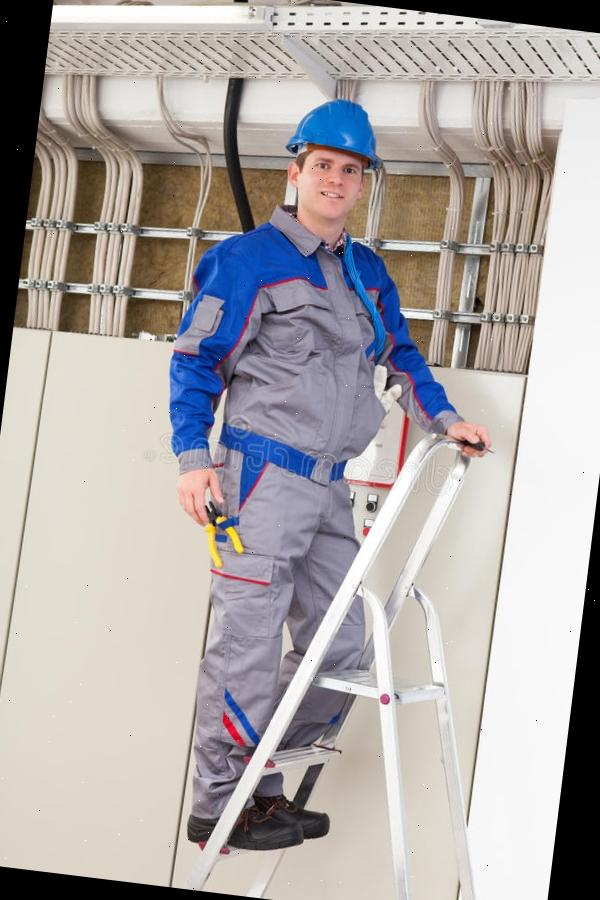helmet: (283, 92, 395, 169)
wear: (195, 230, 400, 482)
